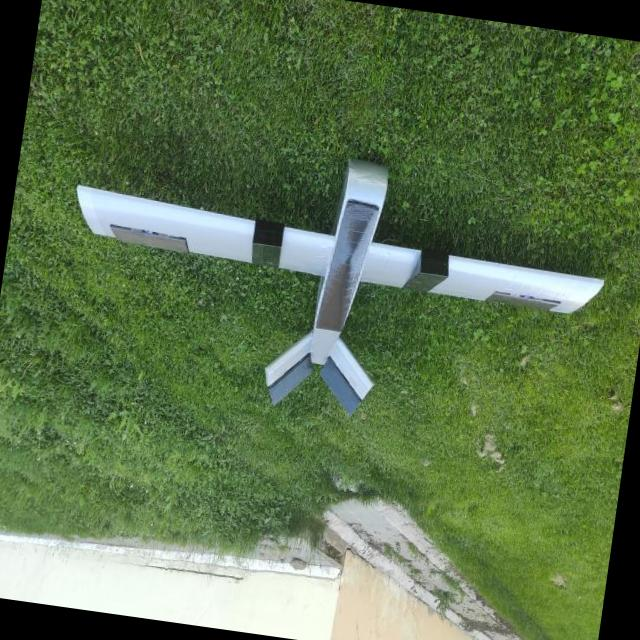UAV: (38, 93, 628, 446)
